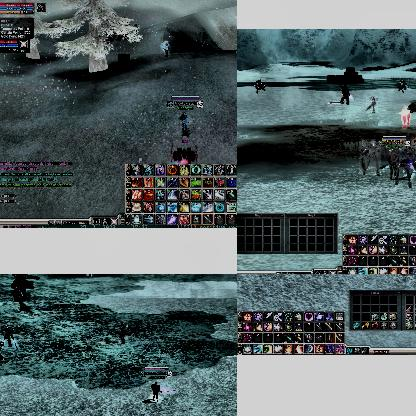caliana: (394, 148, 414, 188), (359, 139, 381, 175), (2, 324, 20, 348), (118, 320, 128, 344), (118, 54, 130, 72), (366, 96, 378, 112), (160, 41, 170, 57)
